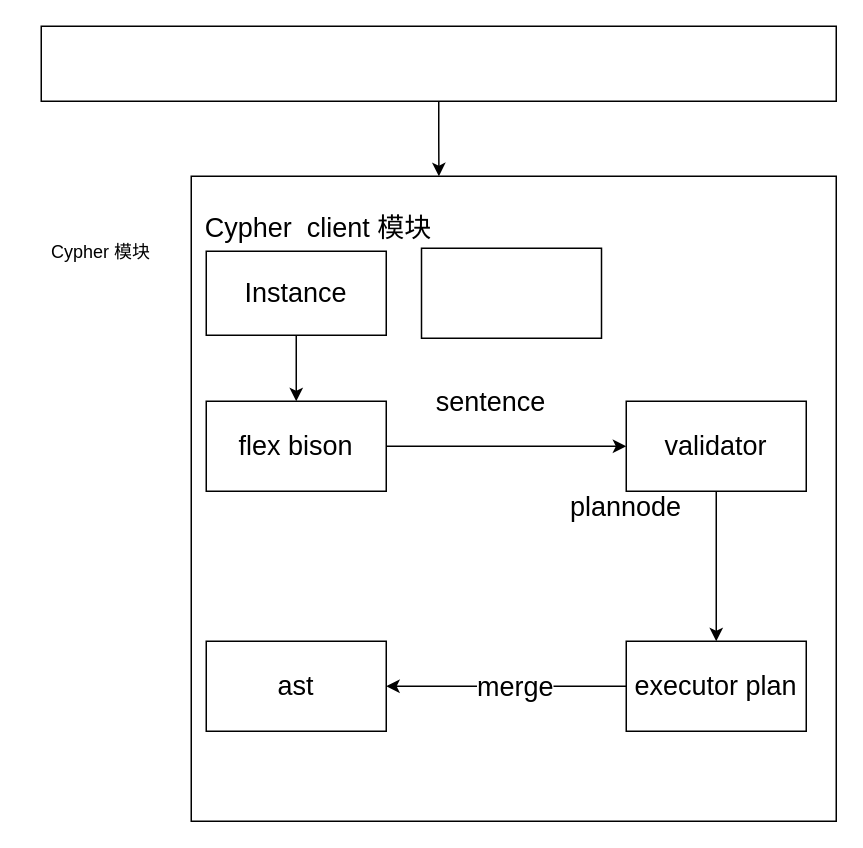
Image size: 863x848. Some labels were removed from this diagram. The centre of each missing label's shape, as x and y in pixels:
clientInfo: point 511,292
权限认证模块: point 438,63
